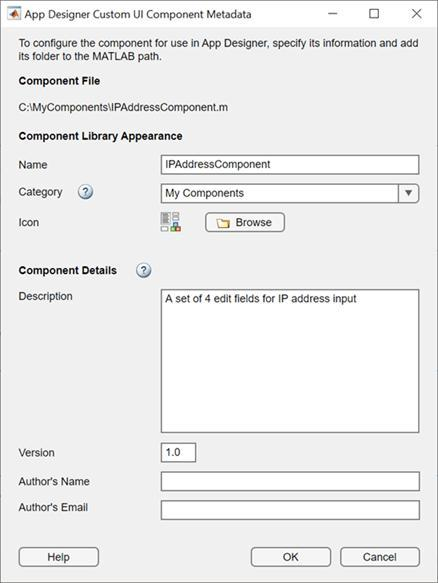button: (204, 211, 288, 236), (18, 545, 102, 570), (340, 546, 422, 569), (250, 547, 335, 568)
dropdown: (161, 183, 421, 206)
input: (160, 153, 422, 177), (161, 499, 423, 522), (160, 470, 423, 492), (159, 442, 199, 465)
label: (18, 37, 423, 66), (19, 98, 232, 117), (16, 128, 186, 143), (17, 266, 118, 279), (19, 76, 104, 89), (17, 475, 95, 487), (19, 502, 91, 515), (16, 292, 76, 305), (19, 187, 65, 200), (19, 446, 57, 461), (17, 158, 50, 171), (17, 218, 42, 229)
